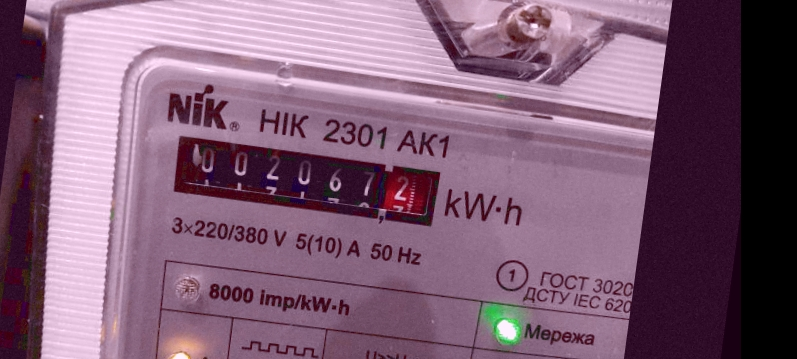0: (196, 144, 218, 175), (230, 146, 251, 177), (293, 155, 314, 185)
2: (390, 171, 412, 202), (263, 151, 283, 182)
6: (325, 162, 346, 193)
7: (357, 167, 377, 199)
screen: (156, 120, 456, 241)
